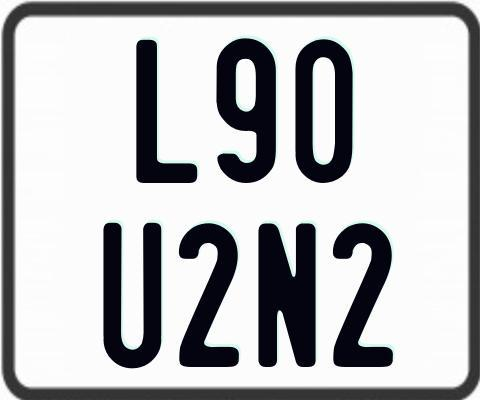0: (293, 39, 357, 184)
2: (332, 221, 395, 366), (179, 220, 241, 364)
9: (215, 36, 280, 184)
L: (134, 39, 195, 183)
N: (255, 221, 316, 366)
U: (103, 222, 163, 368)
